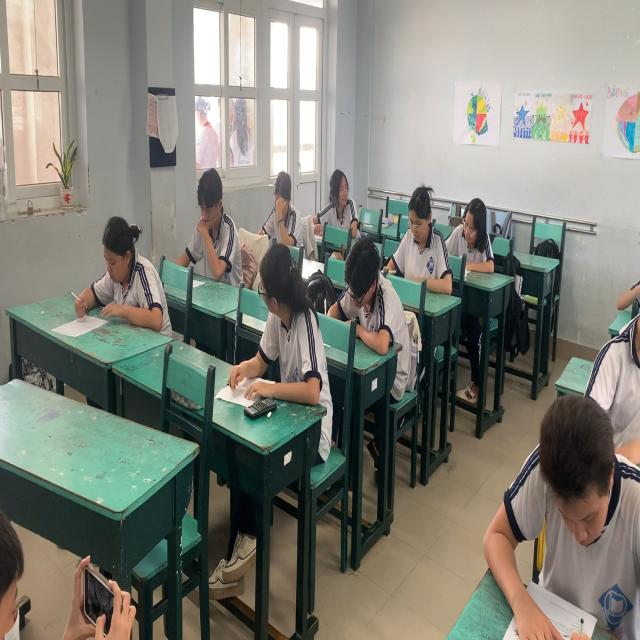cheating: (248, 240, 322, 399), (320, 164, 359, 233)
not_cheating: (470, 392, 640, 620), (75, 219, 163, 330), (383, 178, 452, 298), (176, 164, 241, 284), (330, 233, 386, 330), (254, 160, 303, 257), (454, 170, 495, 270)
